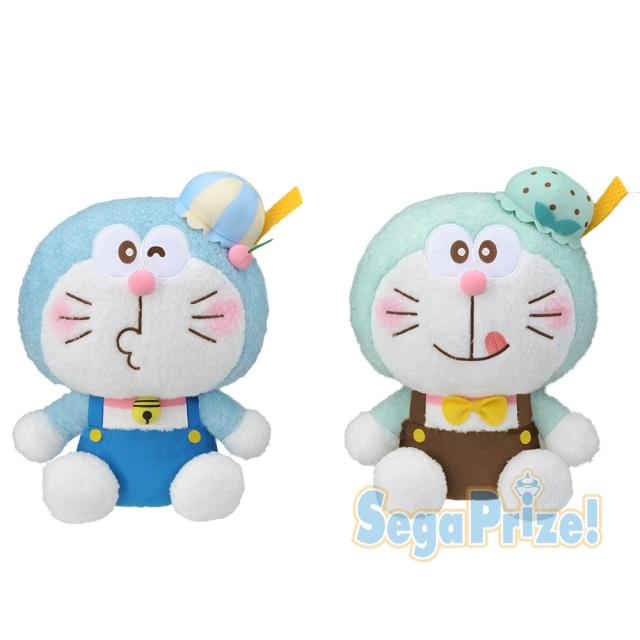doraemon: (7, 175, 292, 428), (339, 160, 611, 424)
